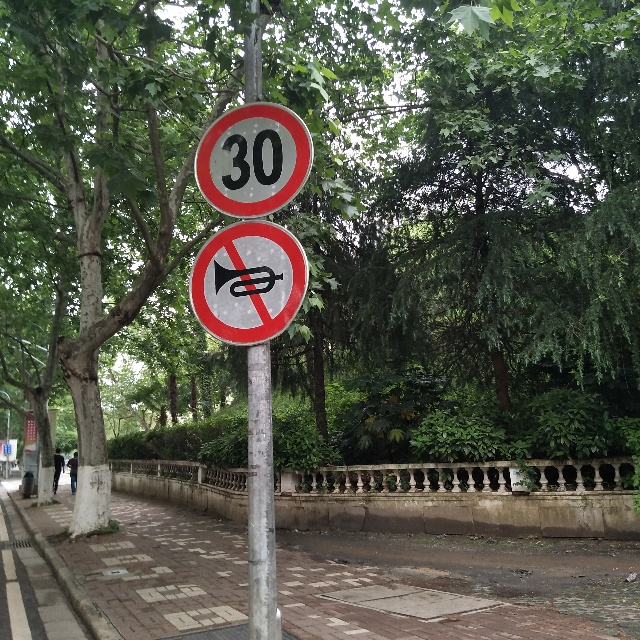nohonk: (206, 240, 291, 340)
